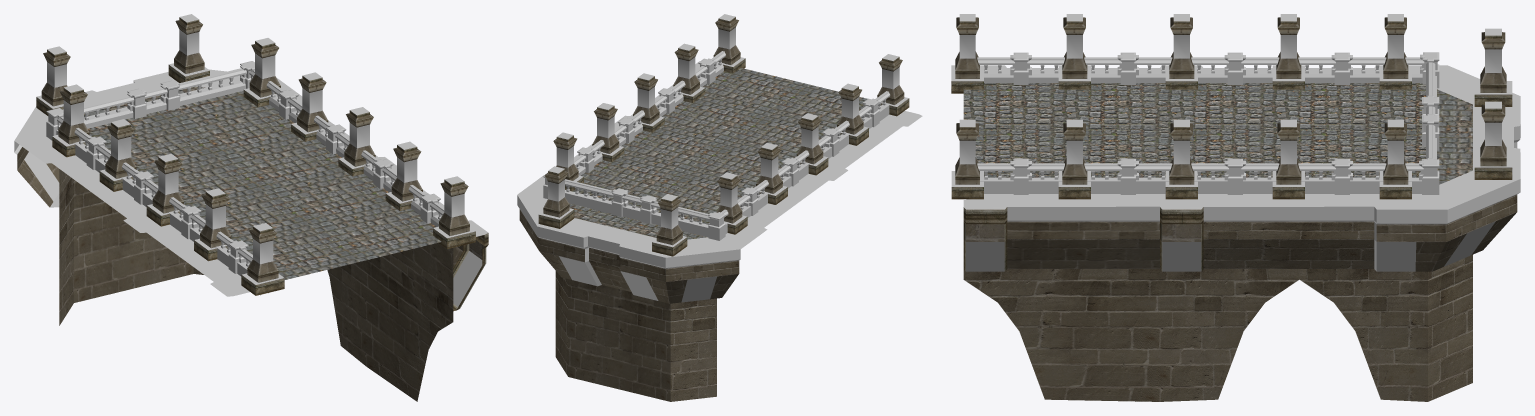
Rendered from SM_Balcony_Arena03.FBX.
3 views of the same model, side by side, from view 1: azimuth 30°, elevation 25°; view 2: azimuth 150°, elevation 25°; view 3: azimuth 270°, elevation 25° (orthographic). The views are drawn at different scales.
Parts seen in each view (by area): view 1: SM_Balcony_Arena03; view 2: SM_Balcony_Arena03; view 3: SM_Balcony_Arena03.
Boxes of the visible parts, bbox=[...] form: SM_Balcony_Arena03: bbox=[14, 14, 488, 401]; SM_Balcony_Arena03: bbox=[517, 14, 922, 401]; SM_Balcony_Arena03: bbox=[951, 14, 1520, 401].
Size of what is drawn, in the model's own units: 1155 by 1925 by 1046.
